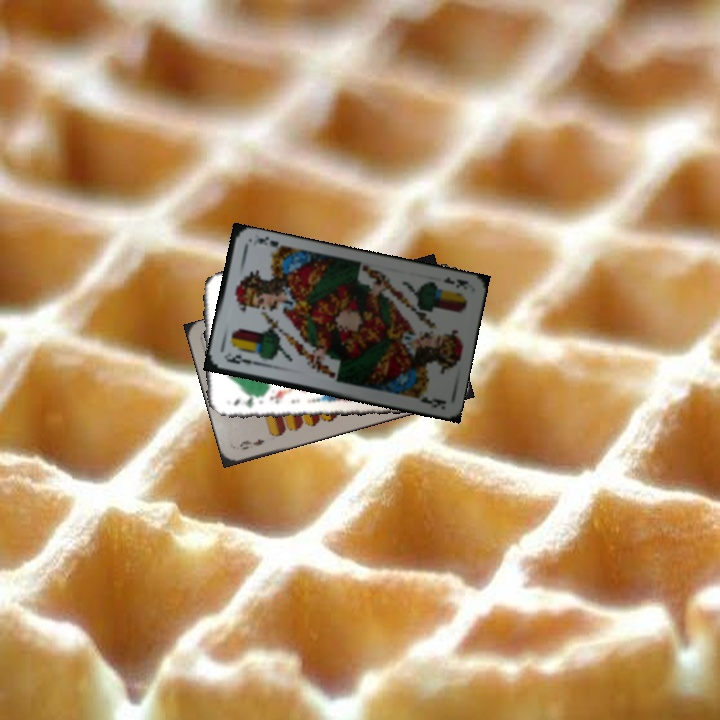E9: (236, 435, 267, 452)
EK: (222, 351, 262, 368), (439, 273, 471, 291)
GK: (229, 394, 257, 411)
